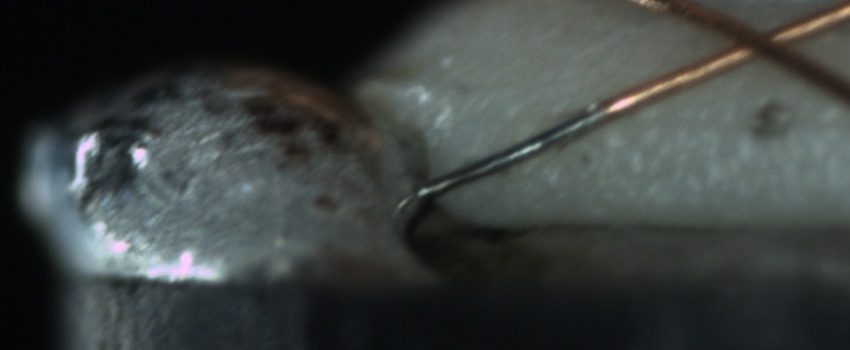CL: (710, 11, 809, 72)
DL: (545, 87, 850, 149)
TS: (414, 105, 605, 199)
TTCW: (413, 68, 680, 201)
